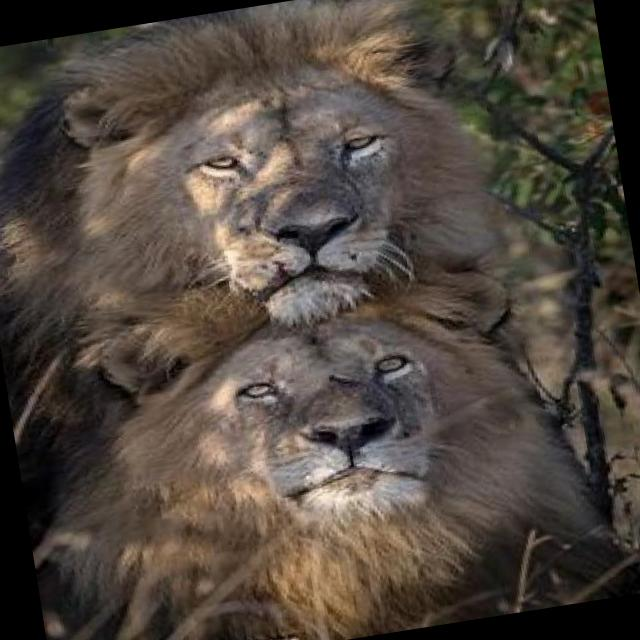lions: (31, 255, 640, 640), (0, 0, 537, 350)
